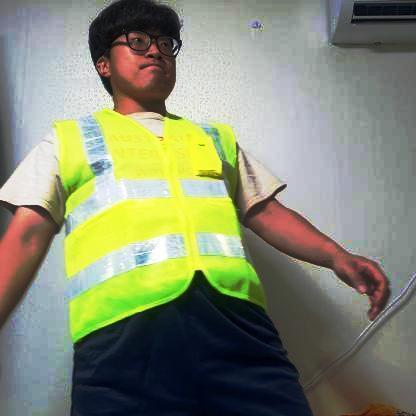no-helmet: (84, 0, 185, 68)
vest: (56, 104, 271, 344)
